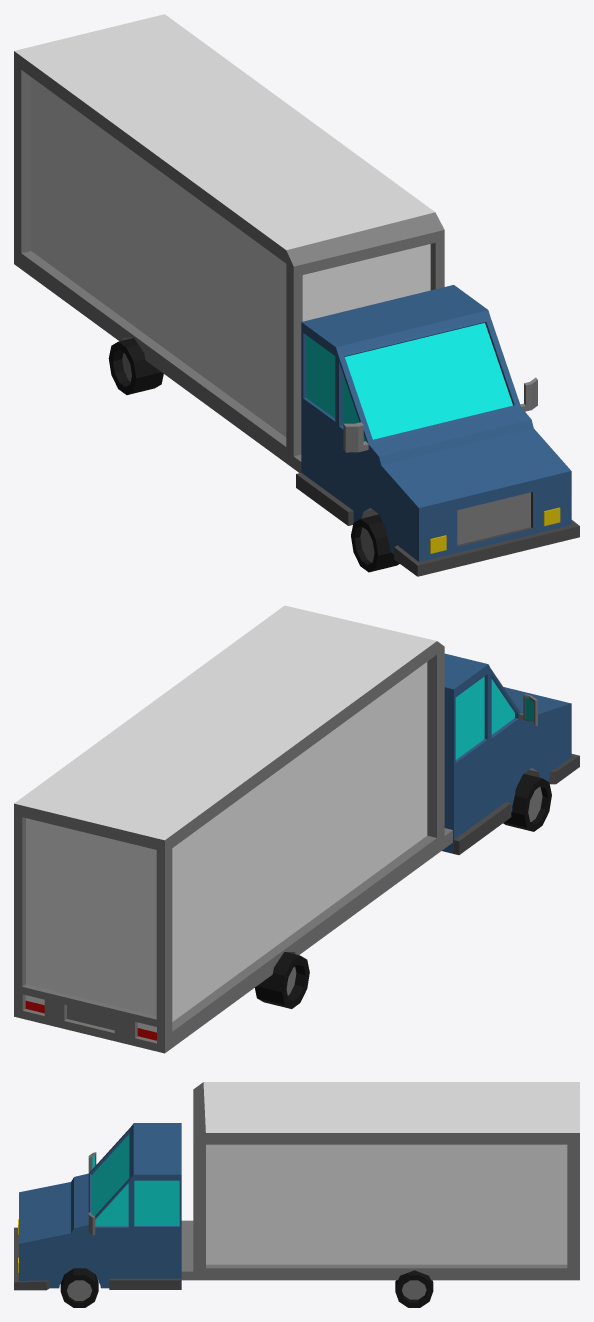
Rendered from Truck.fbx.
3 renders of one model, top to bottom at view 1: azimuth 30°, elevation 25°; view 2: azimuth 150°, elevation 25°; view 3: azimuth 270°, elevation 25°, orthographic. The views are drawn at different scales.
Parts seen in each view (by area): view 1: Cube, Cube.001, Cylinder.001, Cylinder.003; view 2: Cube, Cube.001, Cylinder.001, Cylinder.003; view 3: Cube, Cube.001, Cylinder.002, Cylinder.
Boxes of the visible parts, x1,y1,x2,y2 form: Cube: (14, 14, 444, 472); Cube.001: (296, 285, 579, 576); Cylinder.001: (108, 338, 163, 394); Cylinder.003: (351, 514, 399, 572); Cube: (14, 605, 452, 1053); Cube.001: (442, 653, 579, 854); Cylinder.001: (255, 952, 309, 1008); Cylinder.003: (503, 774, 551, 831); Cube: (181, 1082, 579, 1280); Cube.001: (14, 1123, 181, 1290); Cylinder.002: (60, 1268, 98, 1307); Cylinder: (395, 1270, 433, 1307).
Size of the model in its own units: 189 by 235 by 696.
